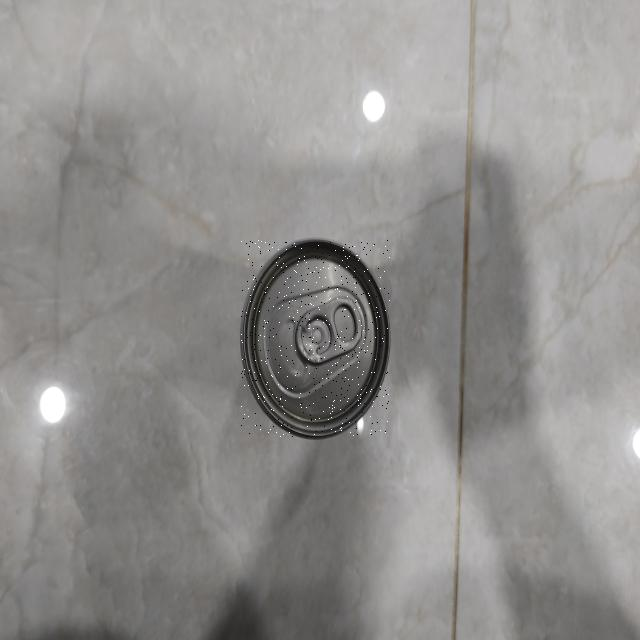metal: (241, 240, 390, 437)
